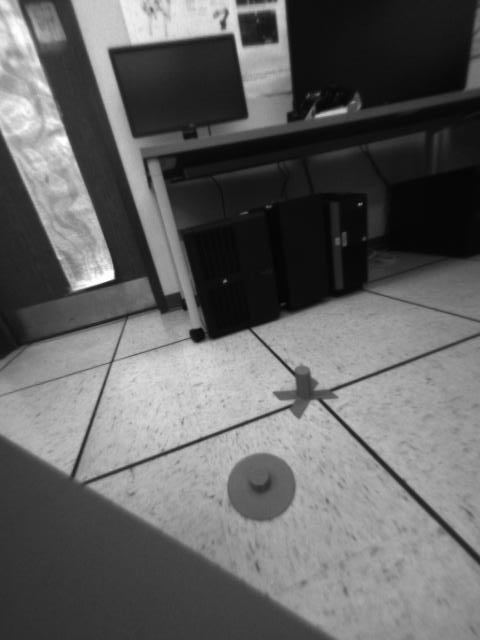X: (273, 366, 338, 420)
